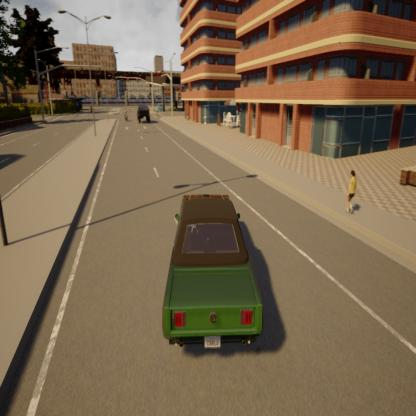Cars: (163, 192, 264, 350), (137, 102, 150, 125), (124, 108, 129, 122)
Pedestrian: (346, 166, 360, 220)
